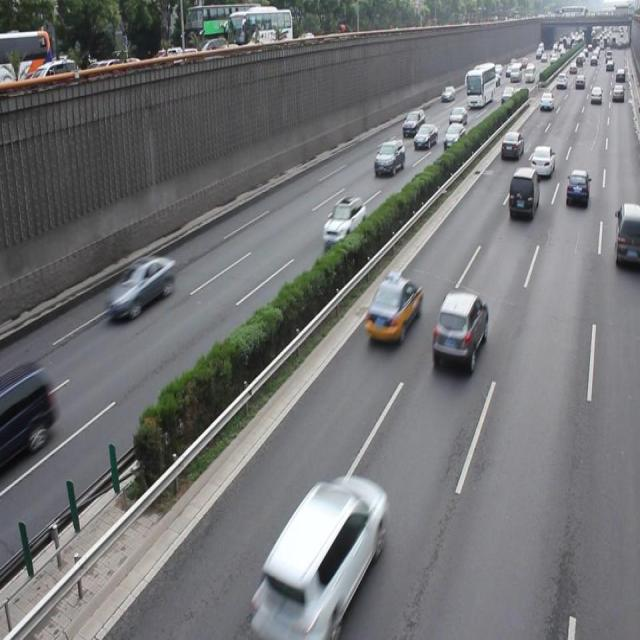car: (250, 469, 388, 640), (104, 250, 175, 321), (430, 290, 487, 373), (364, 272, 419, 342), (322, 194, 366, 249), (611, 201, 640, 271), (372, 138, 404, 173), (528, 144, 554, 180), (564, 168, 586, 206)
truck: (0, 360, 60, 465), (506, 165, 538, 221)
